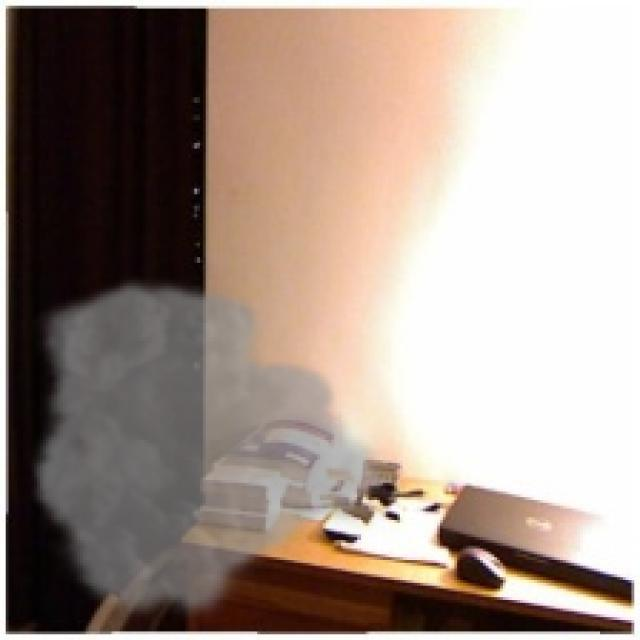Smoke: (29, 274, 388, 626)
